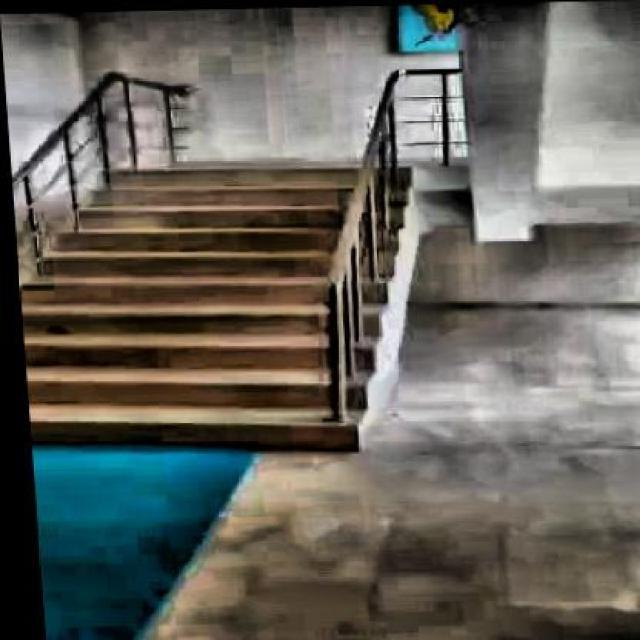stair: (11, 160, 440, 457)
